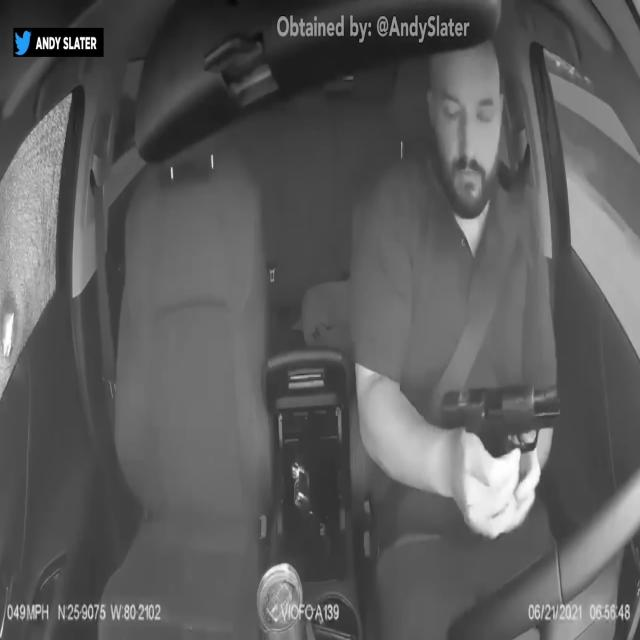senjata_api: (438, 378, 565, 456)
